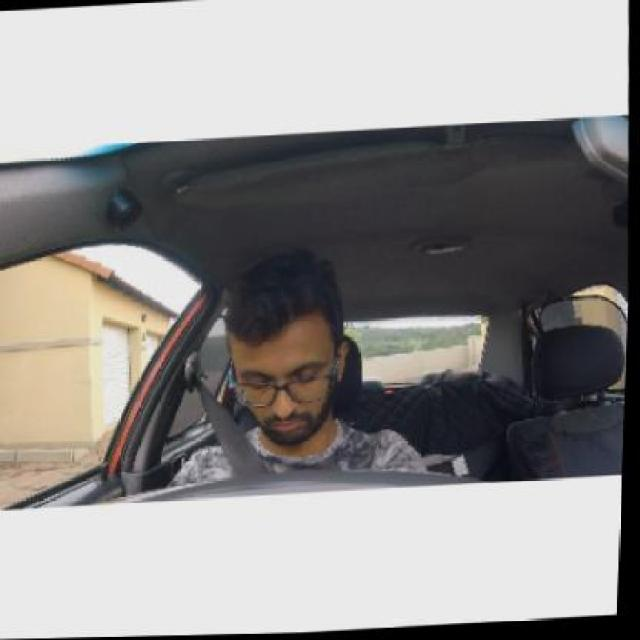drowsy: (213, 280, 356, 446)
